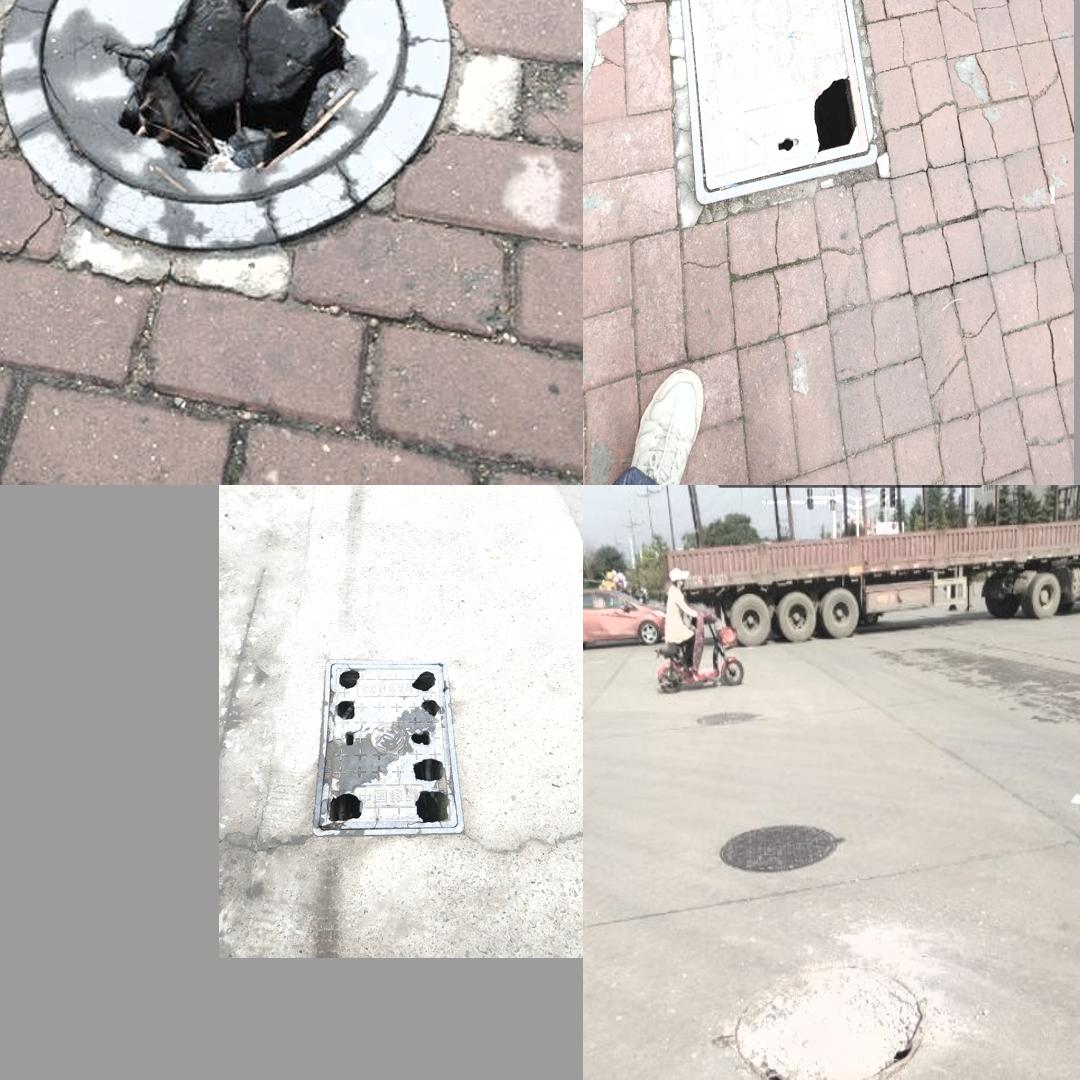broke: (0, 0, 481, 252), (668, 0, 878, 205), (312, 660, 464, 837), (715, 965, 923, 1080)
good: (717, 822, 845, 875)
